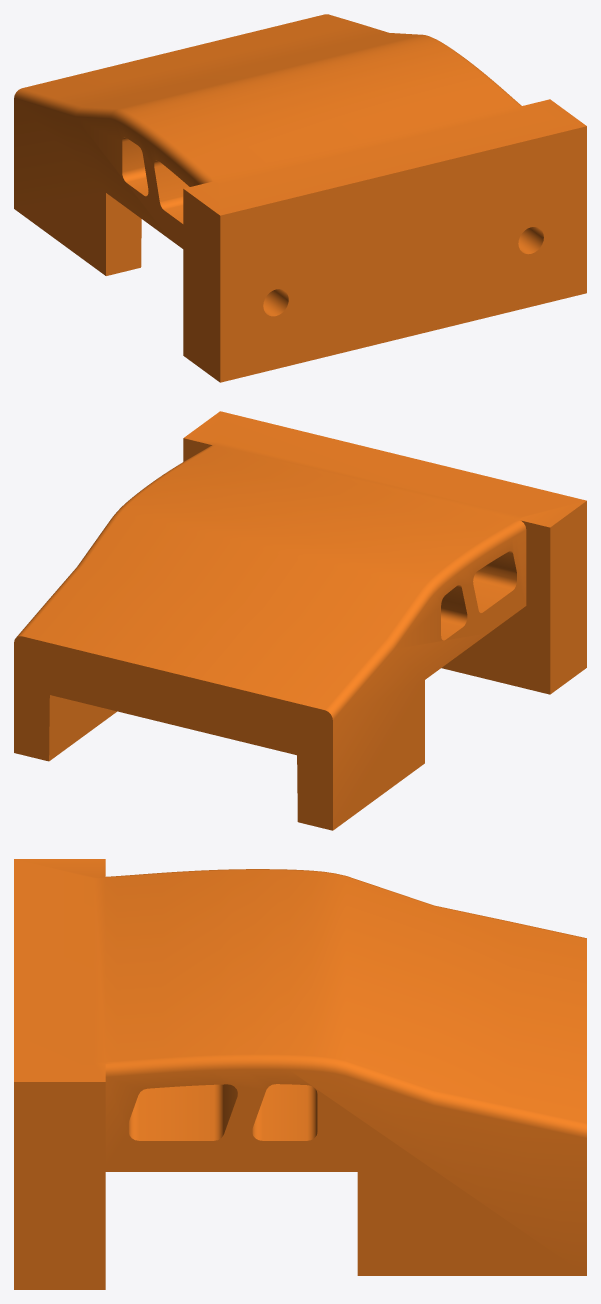
3 views of the same model, one above another, from view 1: azimuth 30°, elevation 25°; view 2: azimuth 150°, elevation 25°; view 3: azimuth 270°, elevation 25° (orthographic). The views are drawn at different scales.
Parts seen in each view (by area): view 1: finger_left; view 2: finger_left; view 3: finger_left.
Boxes of the visible parts, box(x1,y1,x2,y2) form: finger_left: box(14, 14, 586, 382); finger_left: box(14, 411, 586, 830); finger_left: box(14, 859, 586, 1289).
Size of the model in its own units: 0.046 by 0.0209 by 0.05.
